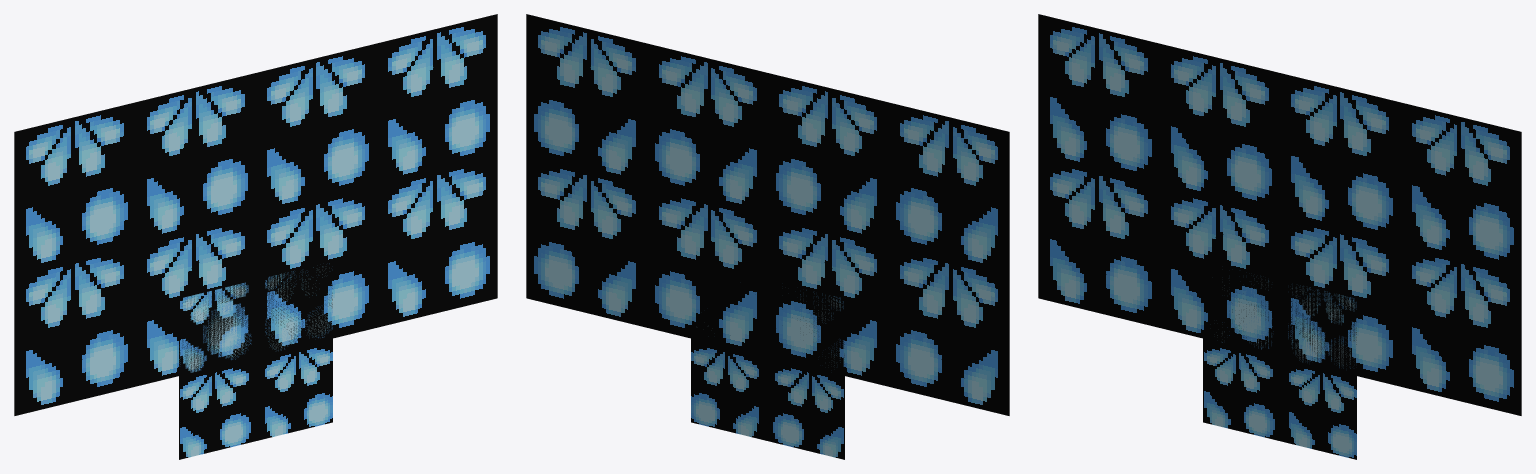
3 views of the same model, side by side, from view 1: azimuth 30°, elevation 25°; view 2: azimuth 150°, elevation 25°; view 3: azimuth 330°, elevation 25° (orthographic).
Visible parts, largest first — view 1: ef_023; view 2: ef_023; view 3: ef_023.
Part boxes in pixels (x1=…): ef_023: x1=14, y1=14, x2=497, y2=459; ef_023: x1=526, y1=14, x2=1009, y2=459; ef_023: x1=1038, y1=14, x2=1521, y2=459.
Size of the model in its own units: 0.7964 by 0.5798 by 0.
Materials: 1 (1 with a texture image).
